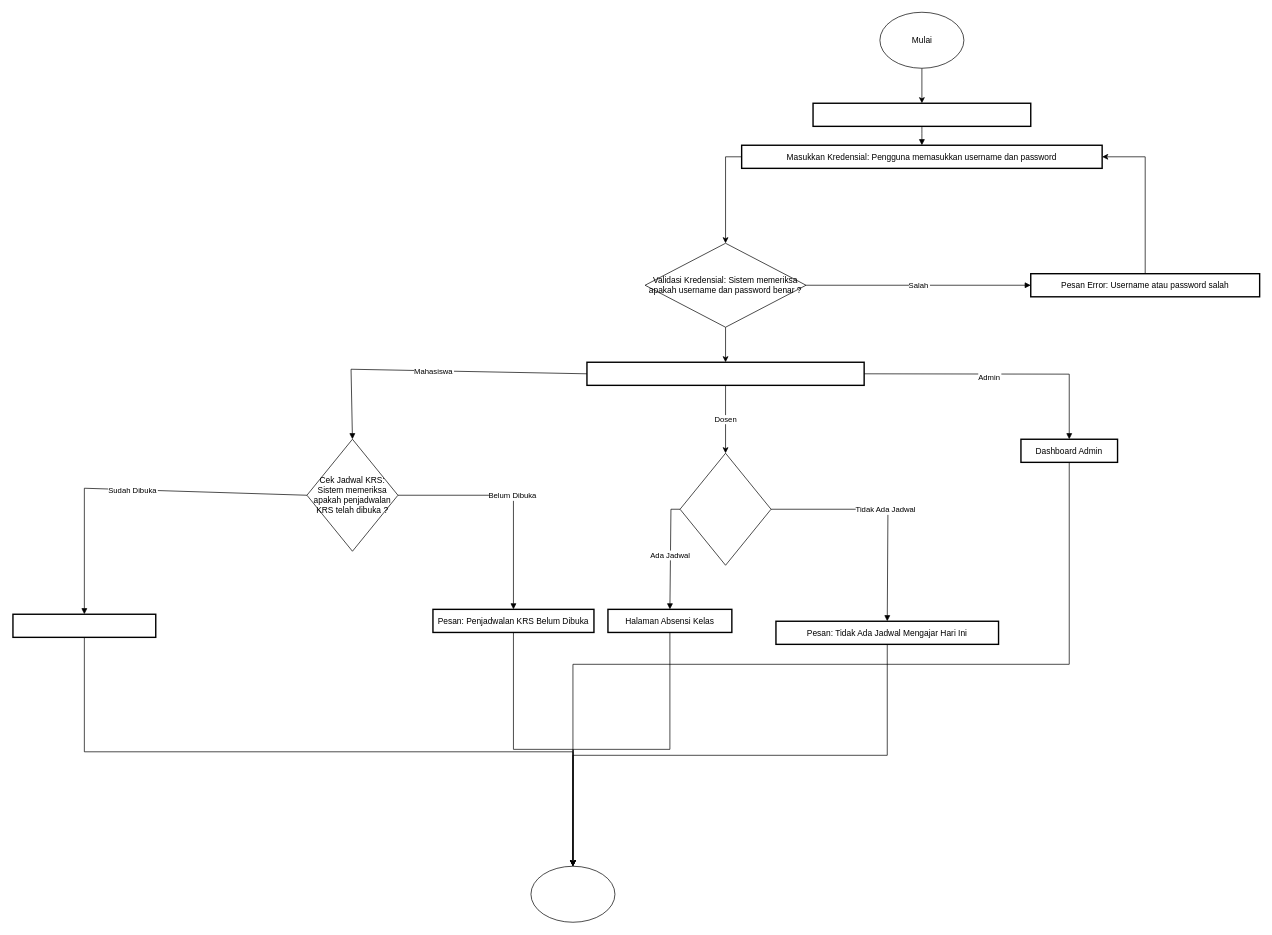
The diagram is 1272 pixels wide and 935 high, and some of its shapes have lost their labels. The centre of each missing label's shape, as x and y in pixels:
"Cek Jadwal Mengajar: Sistem memeriksa apakah hari ini ada jadwal mengajar?" belongs at pixel 725 509.
"Cek Role Pengguna: Sistem memeriksa role pengguna" belongs at pixel 725 373.
"Halaman Pengambilan KRS" belongs at pixel 84 625.
"Mulai: Pengguna membuka halaman login" belongs at pixel 921 114.
"Selesai" belongs at pixel 572 894.
